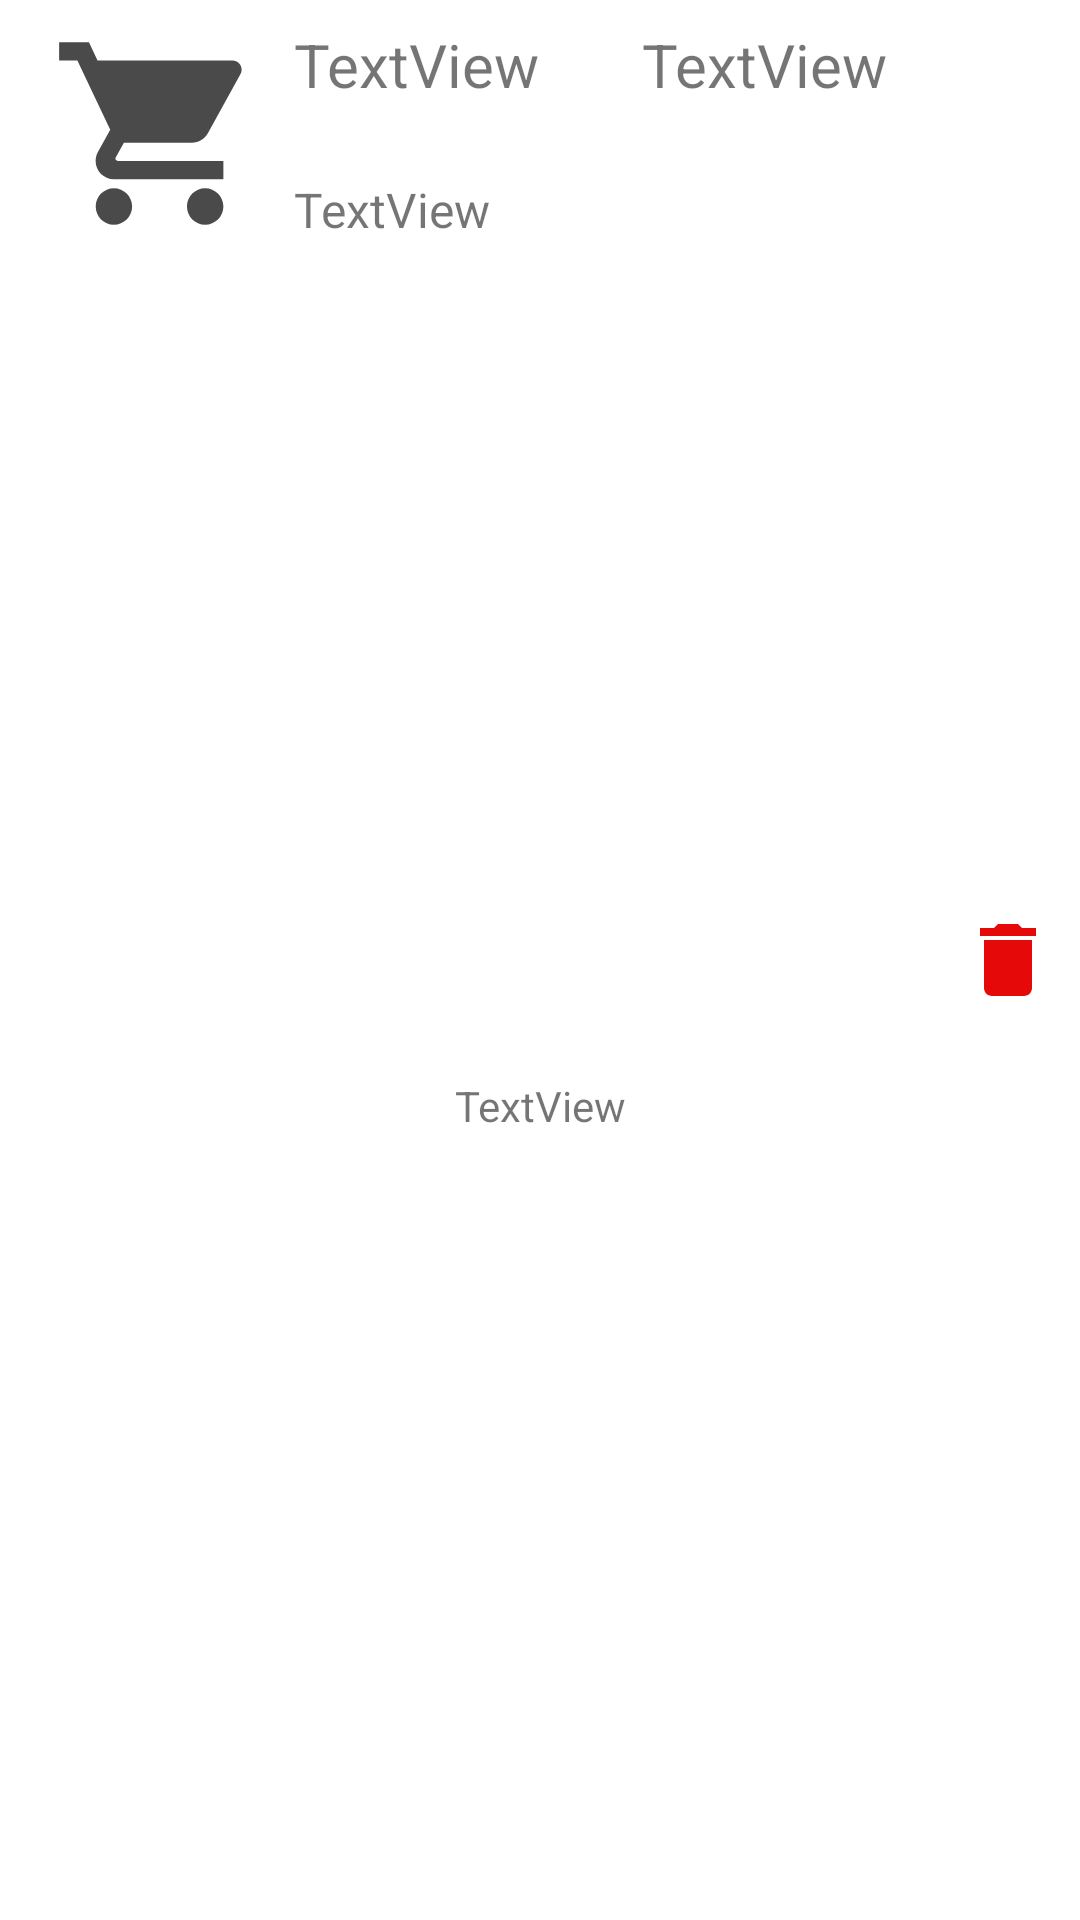

Named icons in this screenshot (1080 × 1920) and their centers, [x,y]:
delete: [1008,960]
shopping cart: [150,133]
